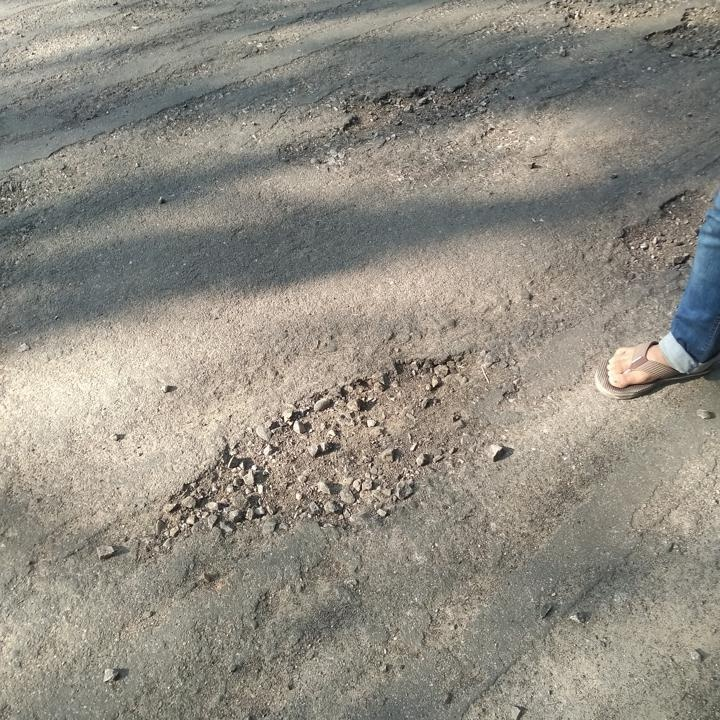pothole: (144, 340, 498, 557), (335, 67, 512, 142), (614, 183, 707, 273), (550, 0, 684, 38), (642, 0, 719, 60)
